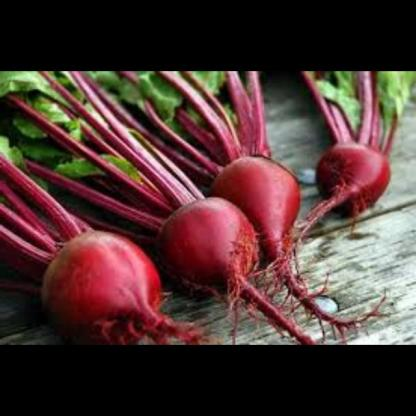beet: (40, 226, 167, 343), (159, 192, 258, 296), (212, 155, 304, 257), (308, 141, 398, 216)
